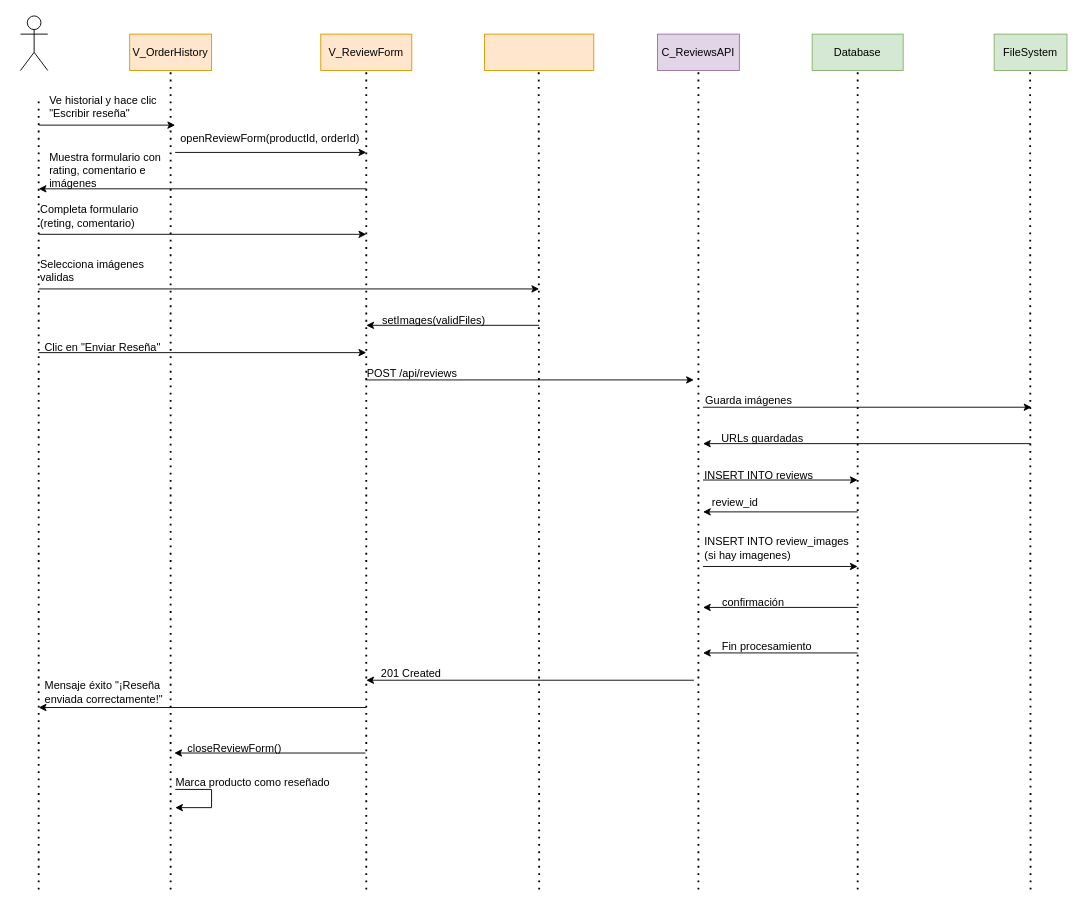
This 1083x907 diagram has some shape labels left out. Here are the shapes that lost their labels. From the top down, the box of each, then its label:
(20, 15, 48, 71): Usuario
(484, 33, 594, 71): V_FileUpload
